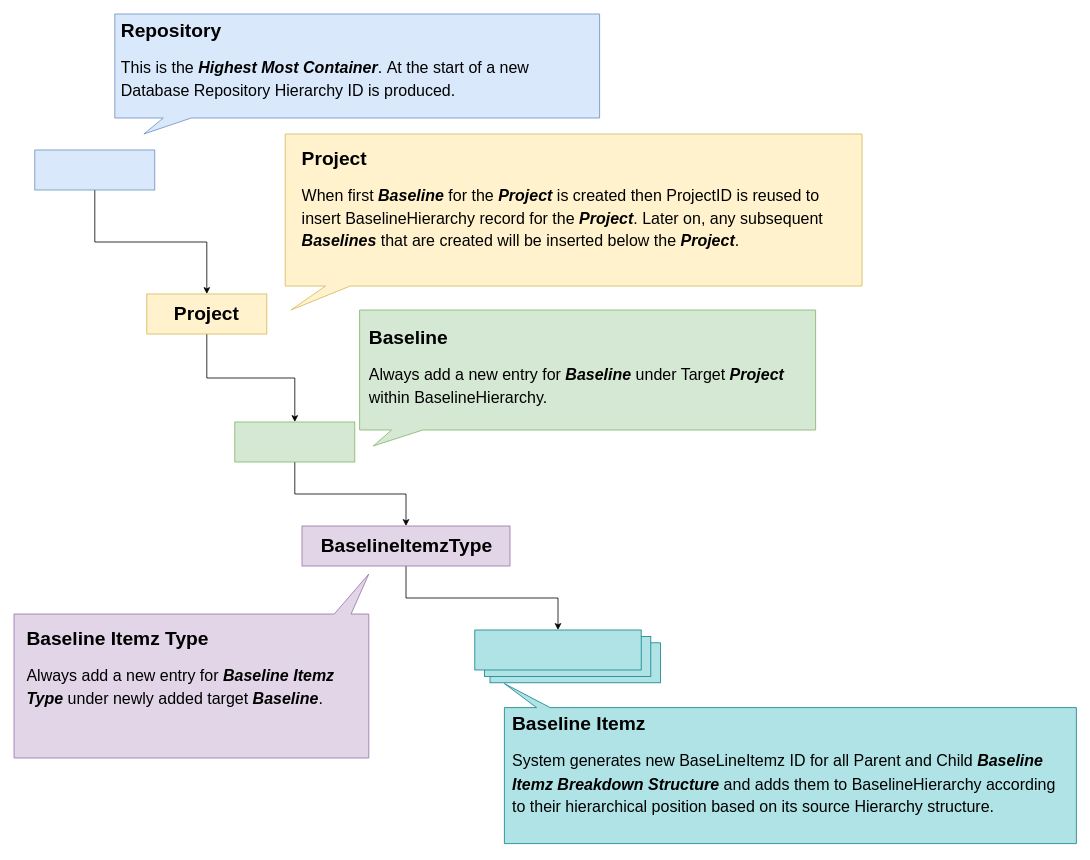
The diagram is 1090 pixels wide and 860 high, and some of its shapes have lost their labels. Here are the shapes that lost their labels. From the top down, the box of each, then its label:
(34, 149, 155, 190): Repository
(234, 421, 355, 462): B aseline
(474, 629, 641, 670): BaselineItemz
